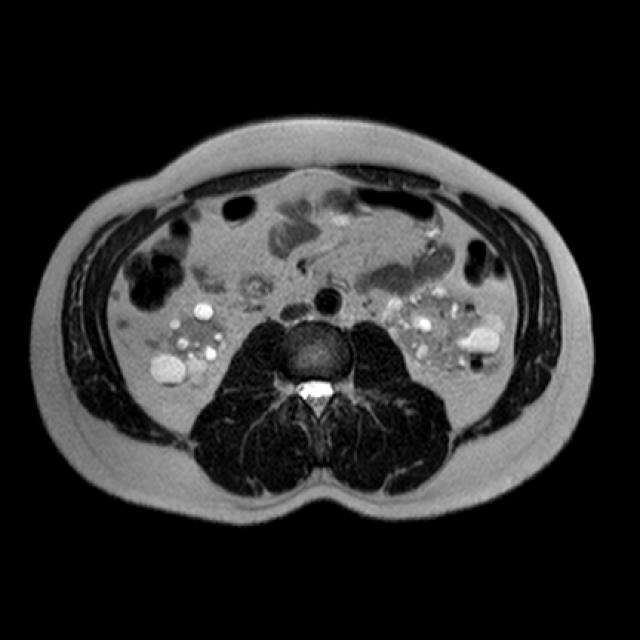sag: (146, 301, 229, 389)
sol: (381, 285, 509, 382)
